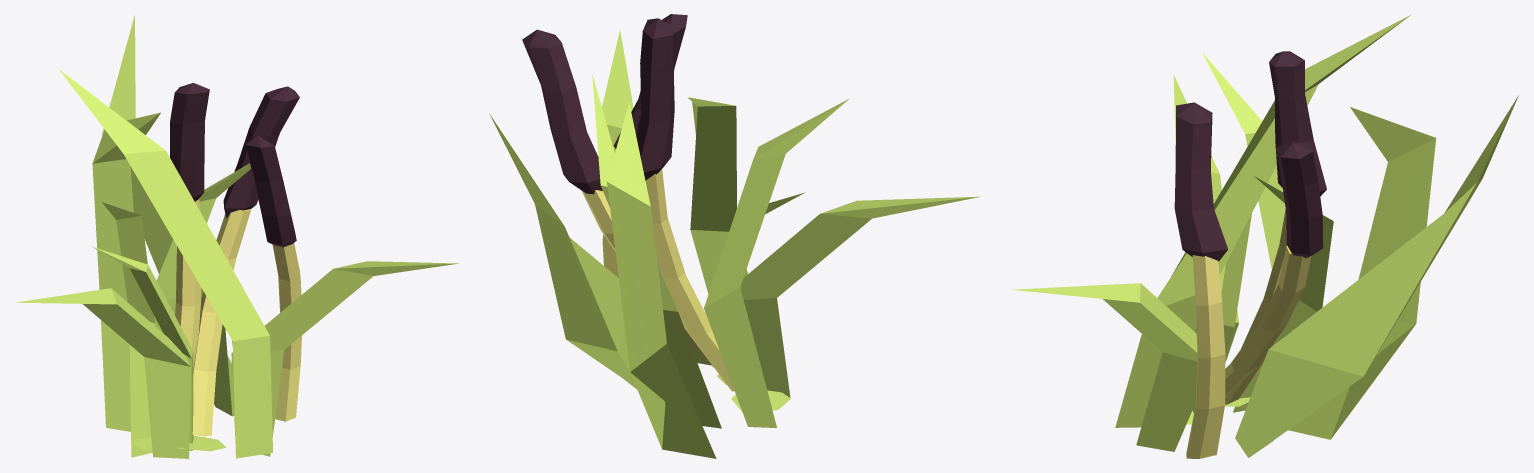
File: kamysh1.fbx
3 renders of one model, left to right at view 1: azimuth 30°, elevation 25°; view 2: azimuth 150°, elevation 25°; view 3: azimuth 270°, elevation 25°, orthographic. The views are drawn at different scales.
Parts seen in each view (by area): view 1: Cone.008; view 2: Cone.008; view 3: Cone.008.
Part boxes in pixels (x1,y1,x2,y2): Cone.008: [16, 15, 459, 458]; Cone.008: [489, 14, 980, 458]; Cone.008: [1011, 14, 1518, 458].
Size of the model in its own units: 63.42 by 55.55 by 63.77.
